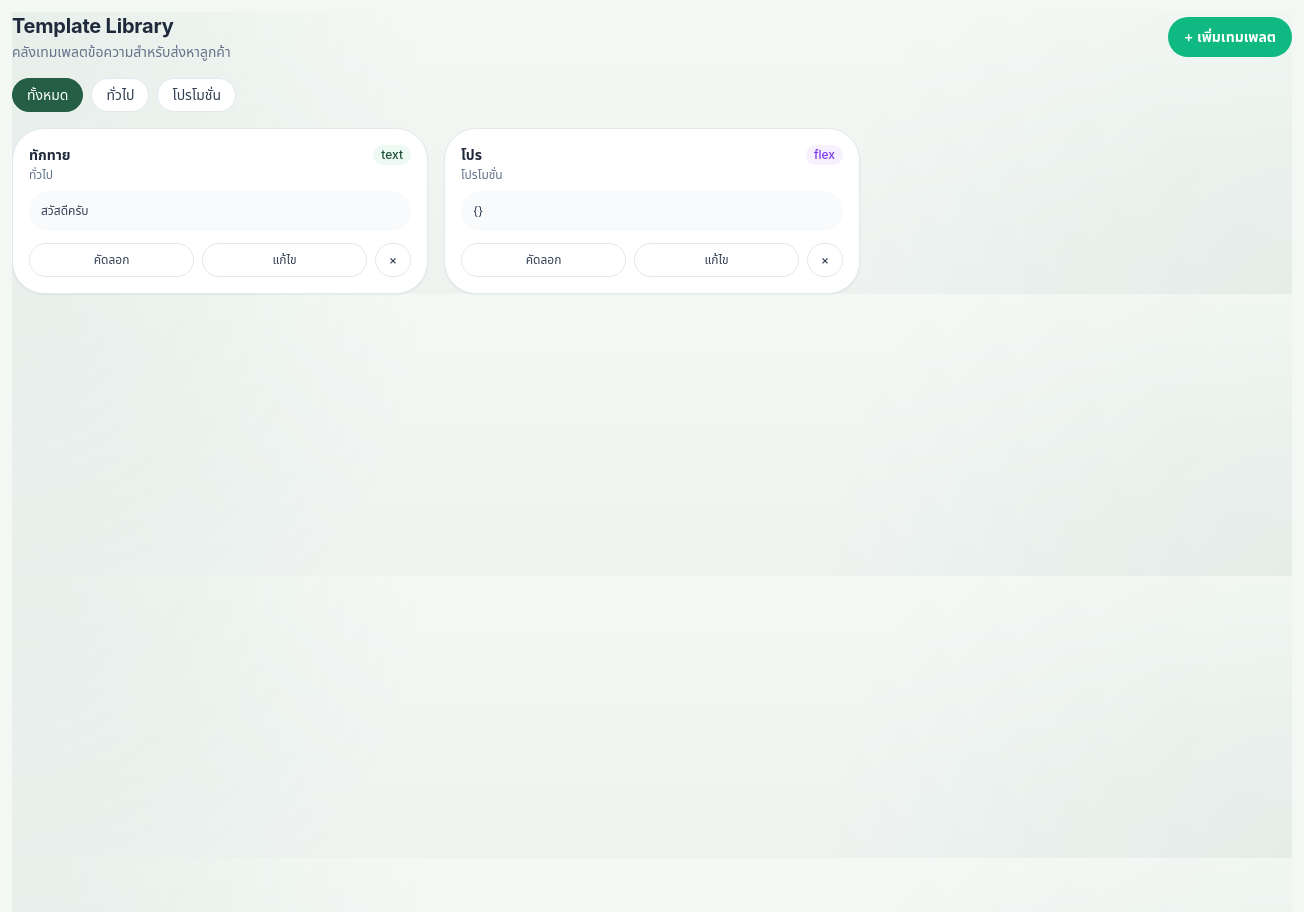
Test case: TemplatesClient › shows all templates again after clicking "ทั้งหมด"
This screenshot has width=1304, height=912.
Click the button "ทั่วไป" at (120, 95), box [92,78,150,112]
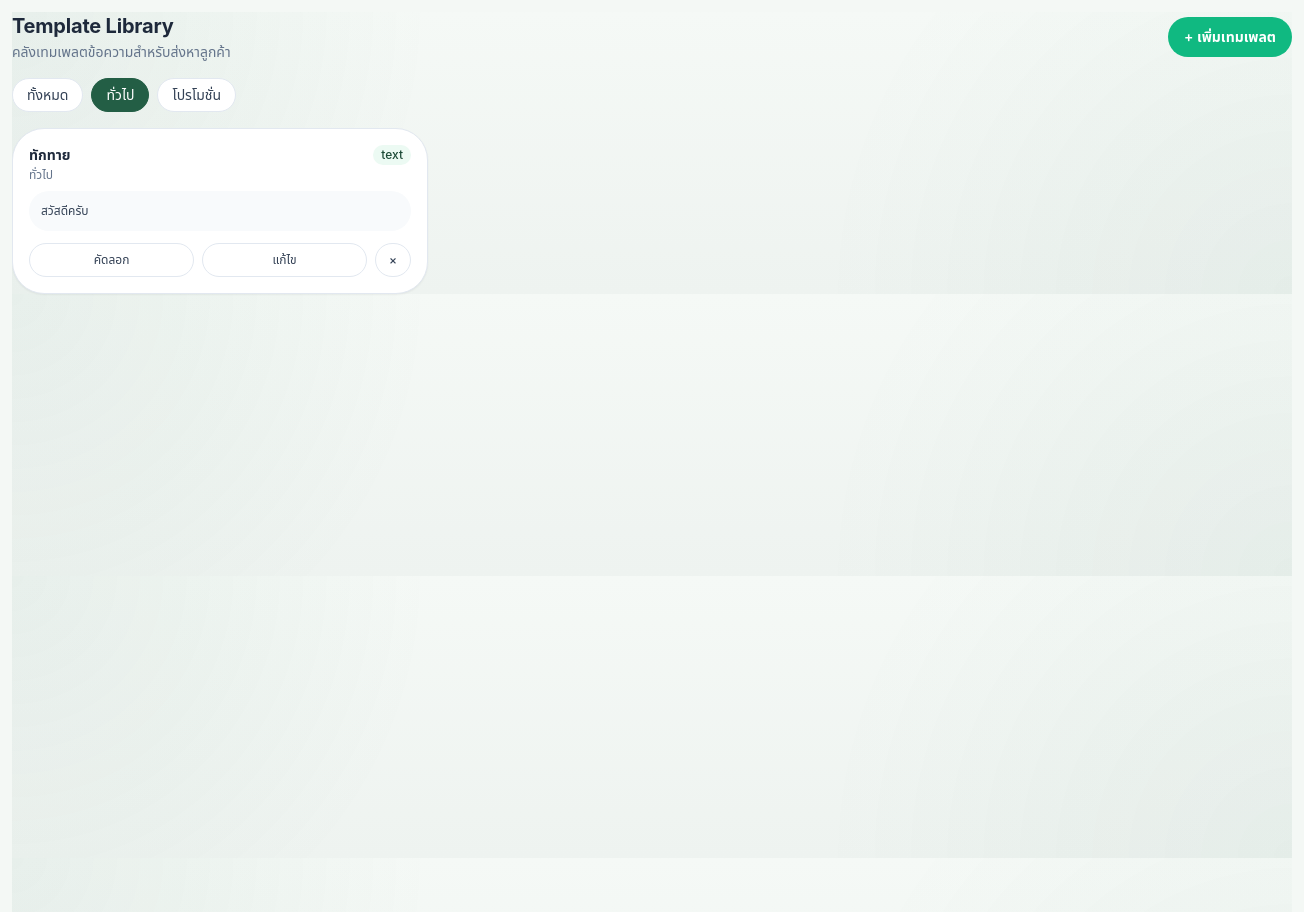
Click the button "ทั้งหมด" at (48, 95), box [12,78,84,112]
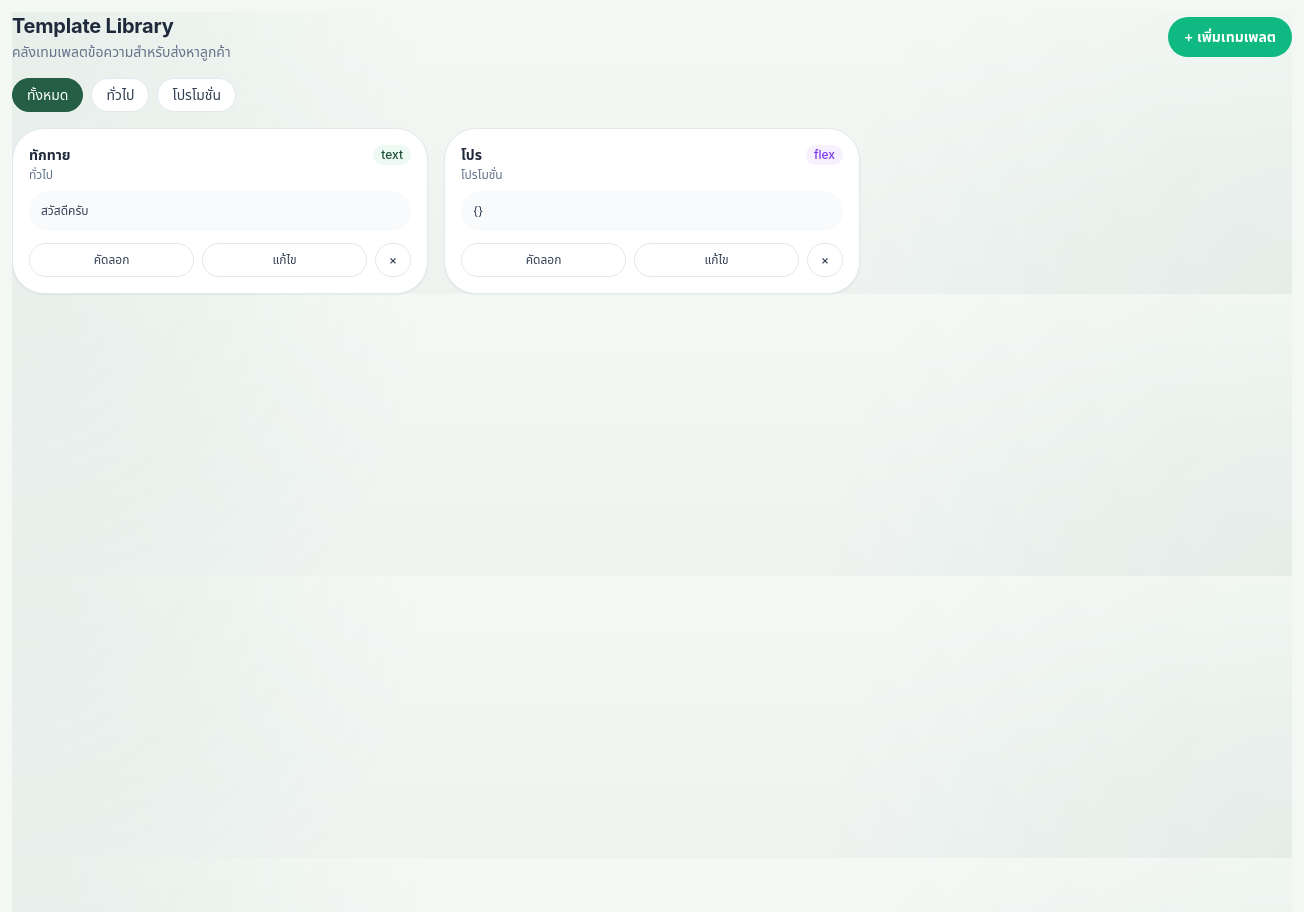
Expected: the text "ทักทาย" is shown, [29,145,71,165]
Now the text "โปร" is shown, box [461,146,482,163]
